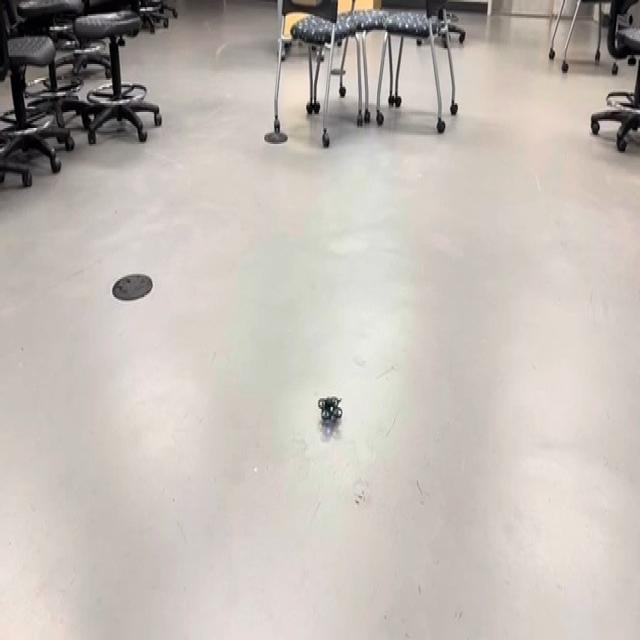drone: (313, 383, 347, 438)
